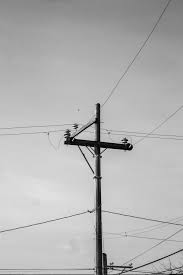utility_pole: (55, 99, 137, 175)
